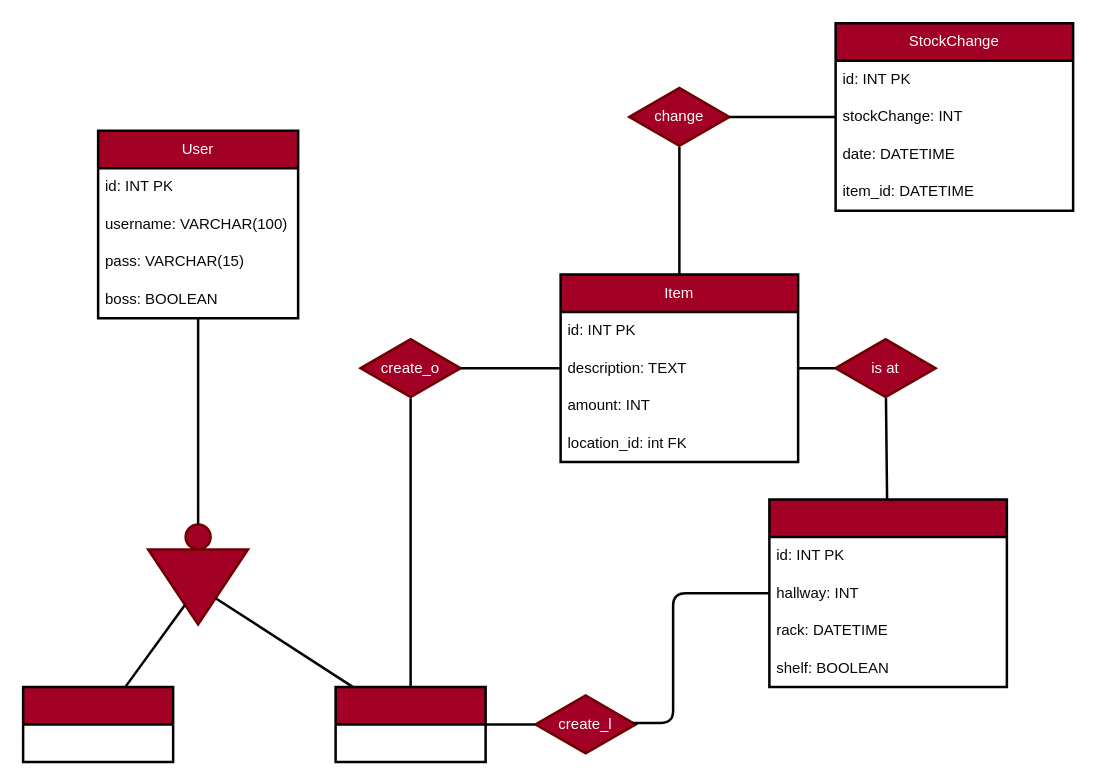
The diagram is 1095 pixels wide and 784 high, and some of its shapes have lost their labels. Each missing label, with the box of its shape:
Boss: (334, 685, 486, 762)
Location: (768, 498, 1008, 688)
Worker: (21, 685, 174, 762)
